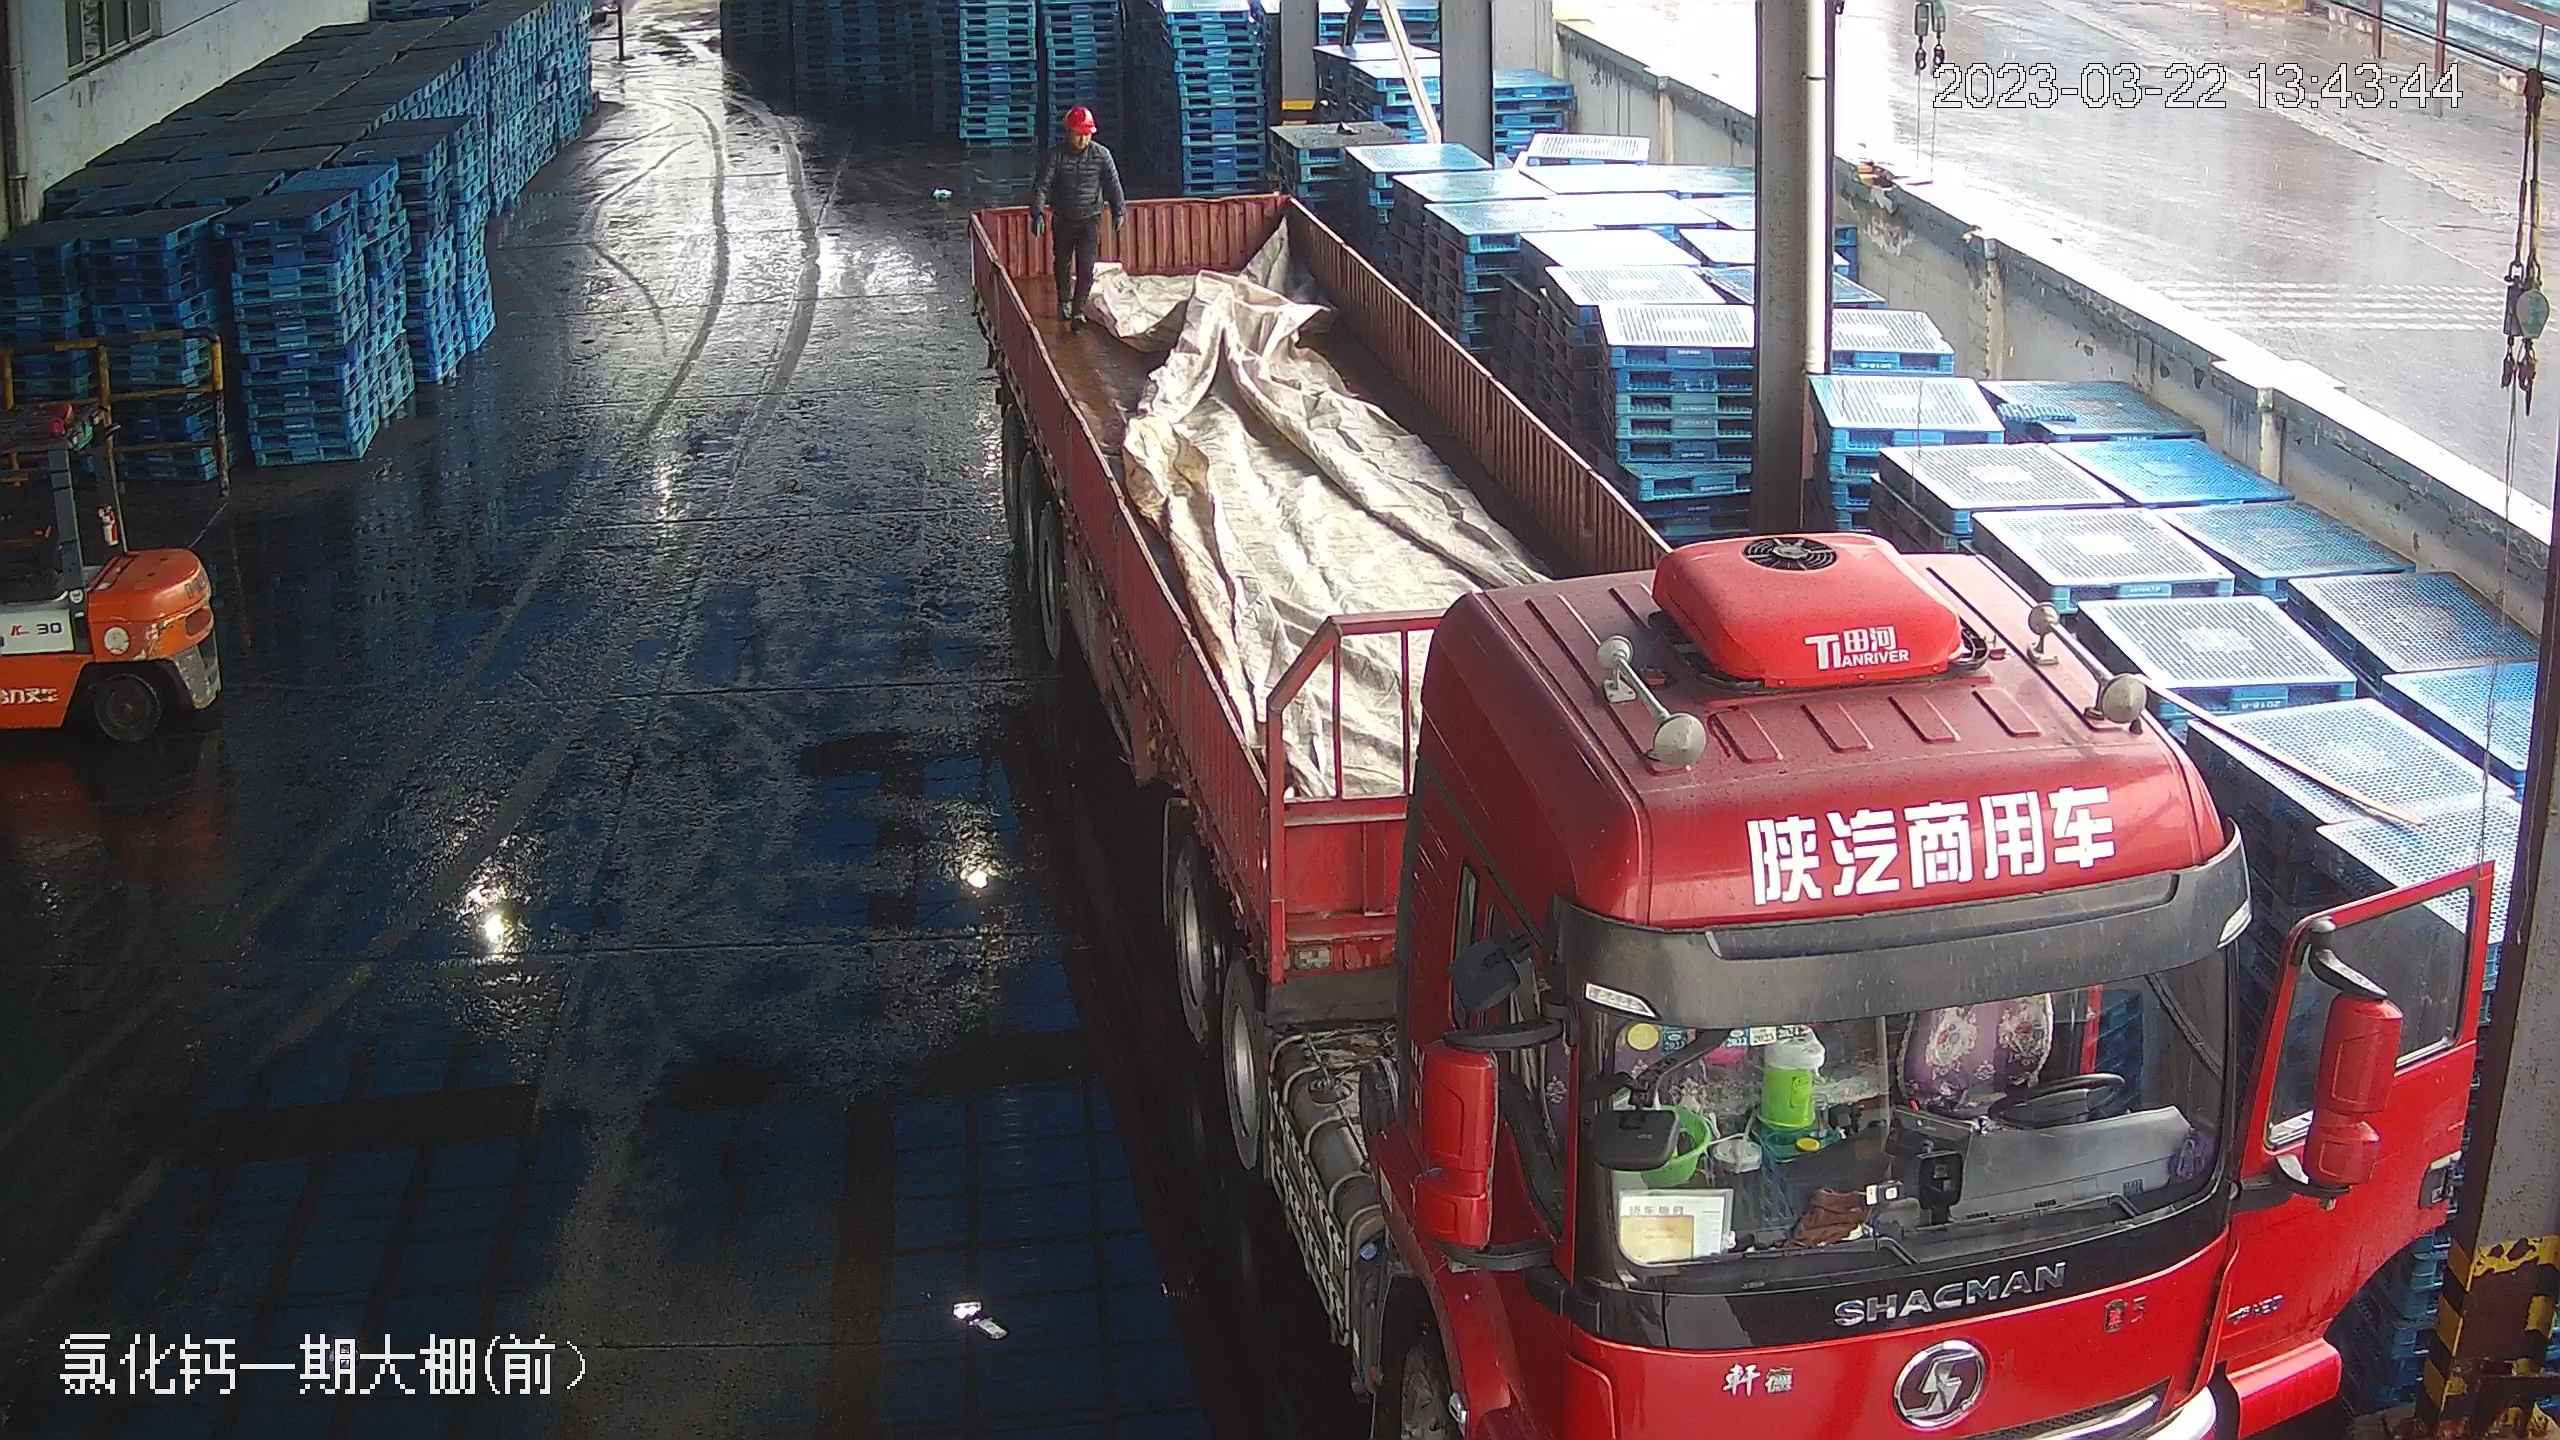head: (1047, 104, 1115, 174)
helmet: (1059, 103, 1094, 130)
people: (1035, 103, 1122, 332)
truck: (948, 128, 2537, 1440)
